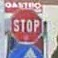stop: (8, 5, 45, 43)
